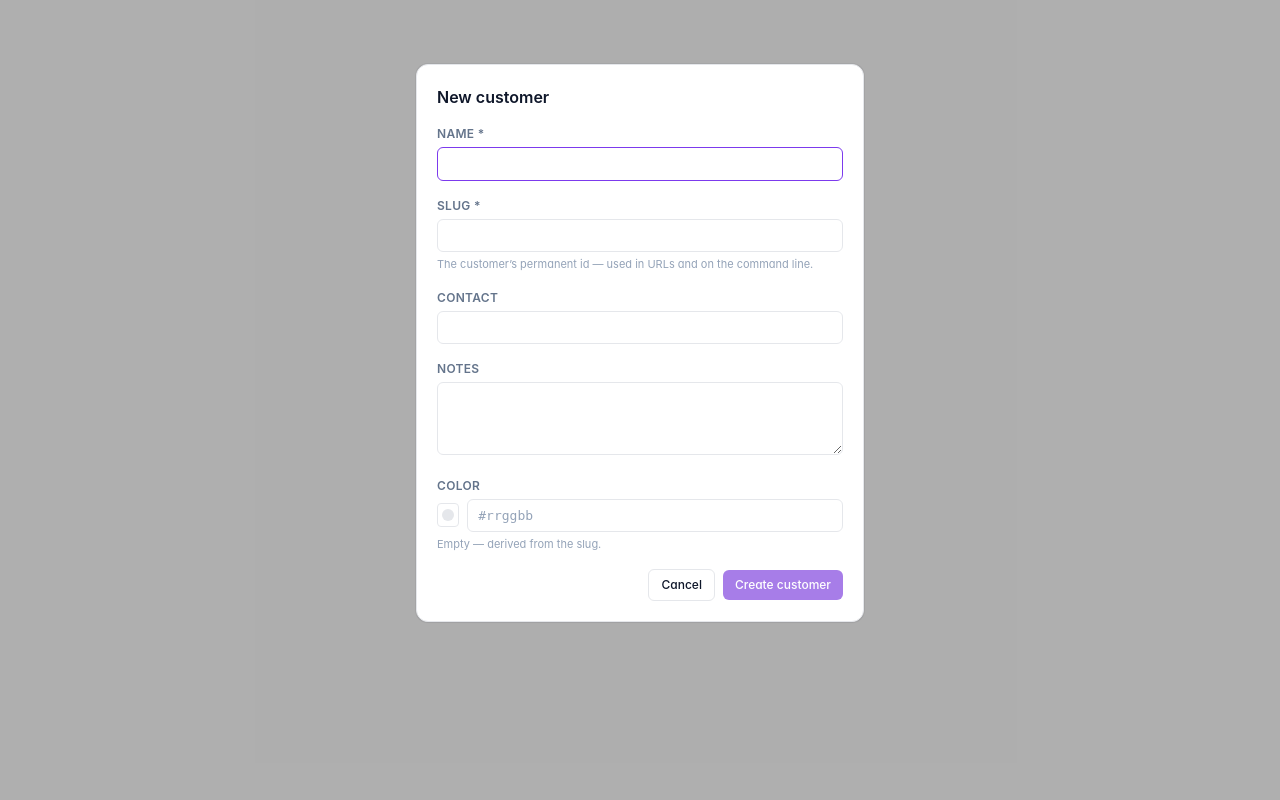
Test: CustomerFormDialog › blocks an invalid slug inline and keeps submit disabled
Type "Acme" into the field labelled "Name *" at {"x": 640, "y": 164}, box [437,147,843,180]
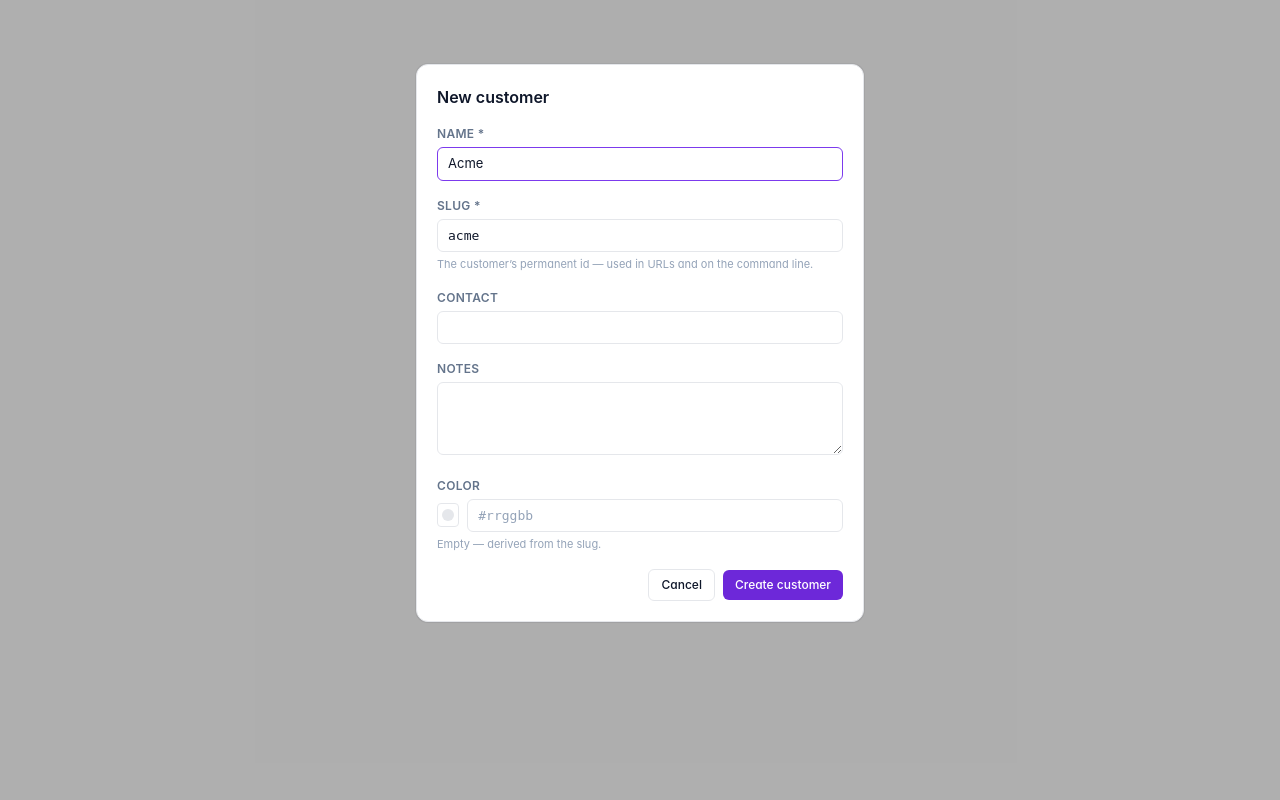
Replace the text in the field labelled "Slug *" with "-bad slug" at {"x": 640, "y": 235}, box [437,218,843,252]
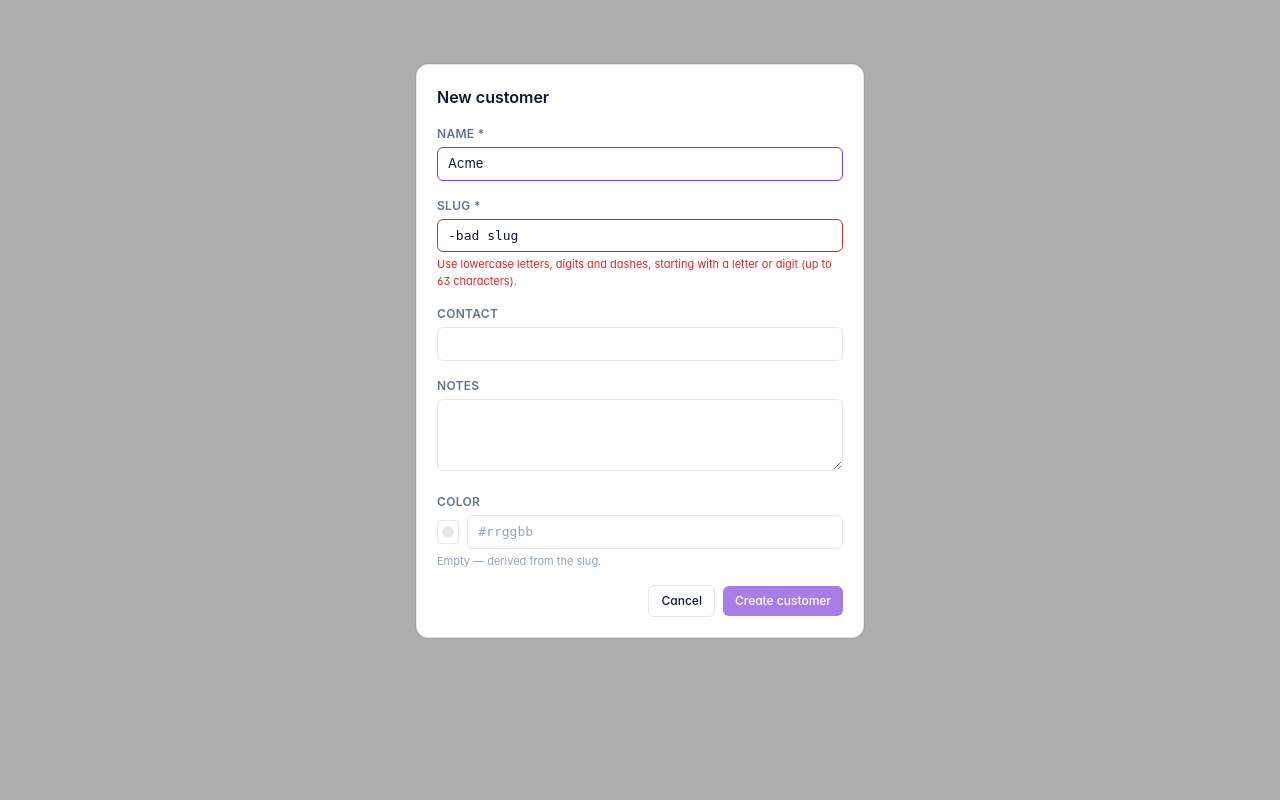
Expected: the text "lowercase letters, digits and dashes" is shown, [437,257,832,288]
Expected: the button "Create customer" is disabled, [723,586,843,616]
